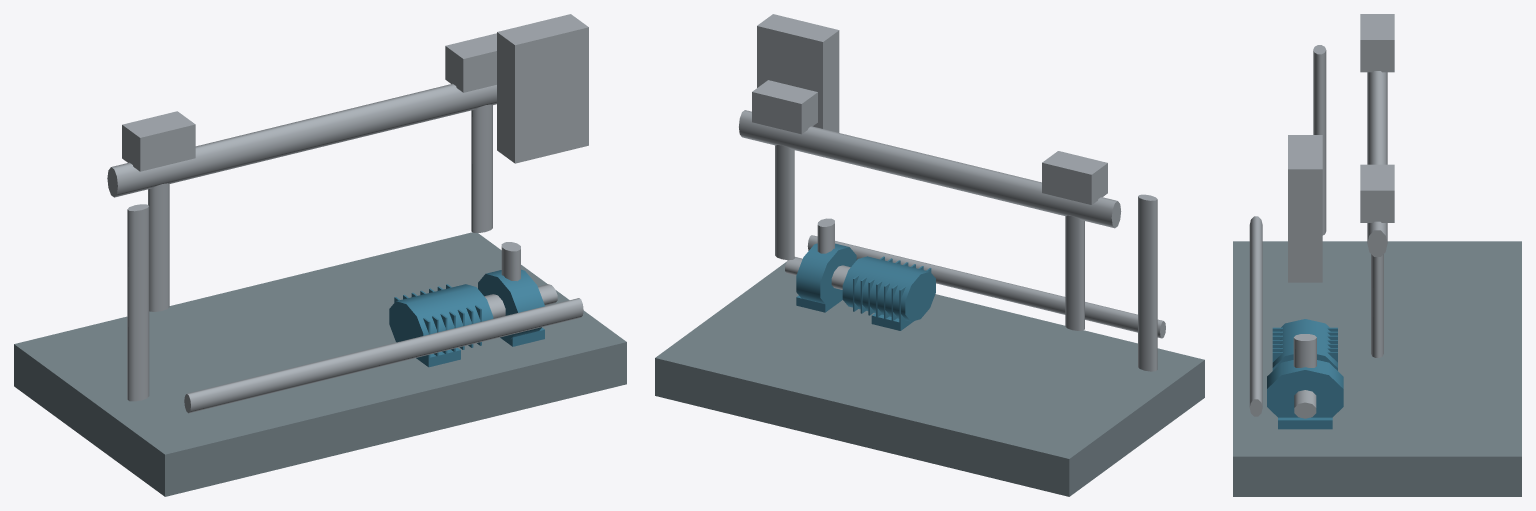
The picture shows the model from 3 angles, left to right: view 1: azimuth 30°, elevation 25°; view 2: azimuth 150°, elevation 25°; view 3: azimuth 270°, elevation 25°; orthographic projection. The views are drawn at different scales.
Visible parts, largest first — view 1: g0001, g0008, g0007, g0005, g0006, g3, g0002, g0, g0004, g0003, g5, g7; view 2: g0001, g0007, g0008, g0005, g3, g0006, g0003, g0002, g5, g0004, g0, g7; view 3: g0001, g0008, g5, g0005, g0007, g0003, g0002, g0006, g3, g0, g7, g2 (+1 smaller).
Boxes of the visible parts, left/top/right/bottom form: g0001: left=14, top=232, right=626, bottom=496; g0008: left=497, top=14, right=588, bottom=163; g0007: left=107, top=83, right=496, bottom=197; g0005: left=184, top=298, right=583, bottom=413; g0006: left=127, top=204, right=149, bottom=401; g3: left=389, top=284, right=493, bottom=342; g0002: left=122, top=111, right=195, bottom=171; g0: left=471, top=104, right=492, bottom=232; g0004: left=148, top=183, right=169, bottom=311; g0003: left=445, top=33, right=496, bottom=92; g5: left=478, top=269, right=544, bottom=339; g7: left=501, top=242, right=520, bottom=281; g0001: left=655, top=262, right=1204, bottom=496; g0007: left=739, top=110, right=1121, bottom=228; g0008: left=757, top=14, right=839, bottom=132; g0005: left=807, top=235, right=1165, bottom=338; g3: left=842, top=256, right=935, bottom=321; g0006: left=1138, top=194, right=1157, bottom=371; g0003: left=752, top=80, right=817, bottom=134; g0002: left=1042, top=151, right=1107, bottom=204; g5: left=796, top=243, right=856, bottom=306; g0004: left=1065, top=215, right=1084, bottom=330; g0: left=775, top=145, right=794, bottom=260; g7: left=817, top=218, right=834, bottom=253; g0001: left=1233, top=241, right=1521, bottom=496; g0008: left=1288, top=135, right=1322, bottom=282; g5: left=1267, top=360, right=1343, bottom=417; g0005: left=1249, top=216, right=1262, bottom=416; g0007: left=1367, top=71, right=1387, bottom=256; g0003: left=1360, top=164, right=1394, bottom=222; g0002: left=1360, top=14, right=1394, bottom=72; g0006: left=1313, top=45, right=1326, bottom=235; g3: left=1272, top=319, right=1337, bottom=370; g0: left=1371, top=254, right=1383, bottom=357; g7: left=1293, top=334, right=1316, bottom=367; g2: left=1278, top=417, right=1332, bottom=429.
Size of the model in its own units: 3 by 2.28 by 1.7.
